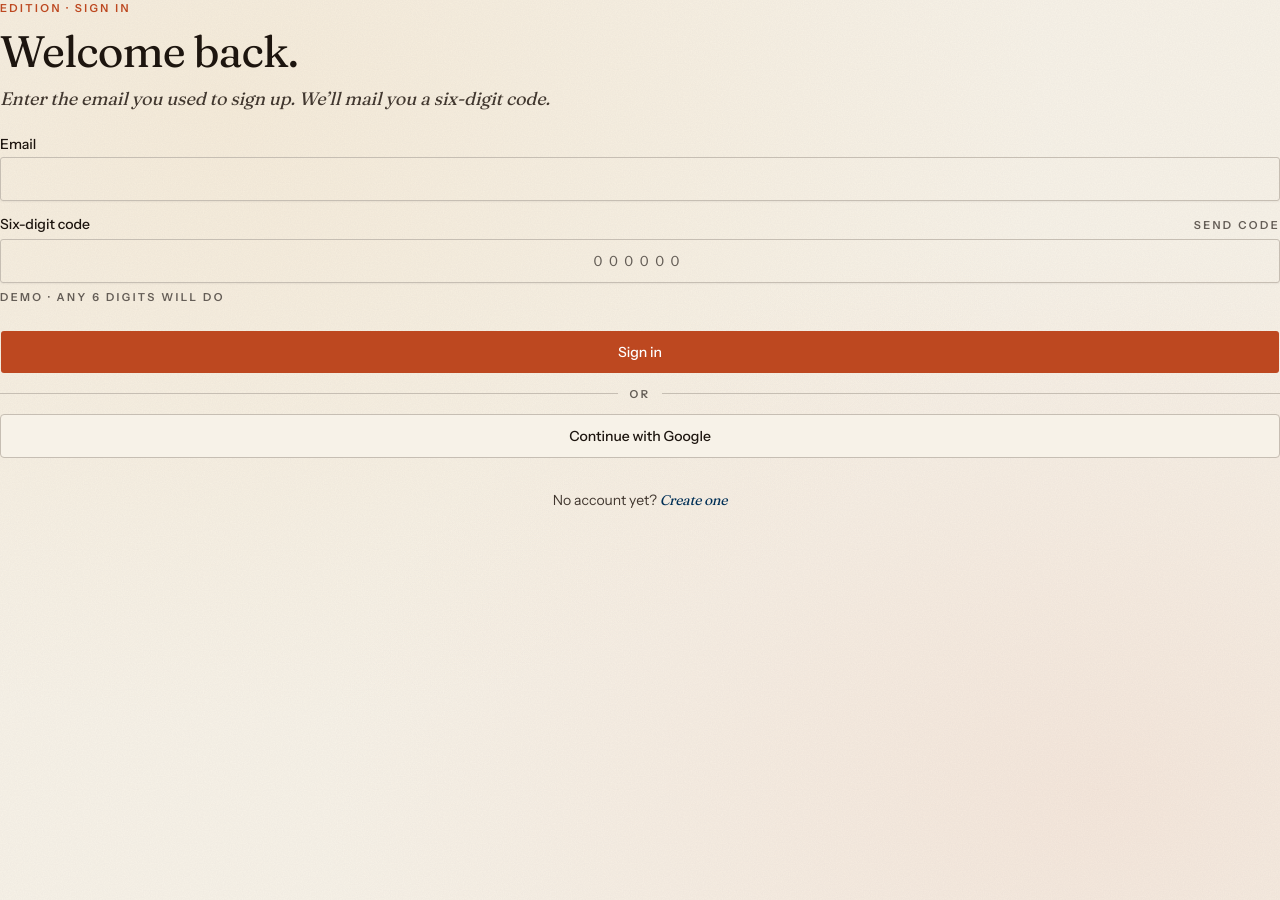
Scenario: AuthForm — OTP input › strips non-digits and caps at 6 characters
Step 1. Type "12ab345678" into the field labelled "Six-digit code" → (640, 261), box [0,239,1279,283]
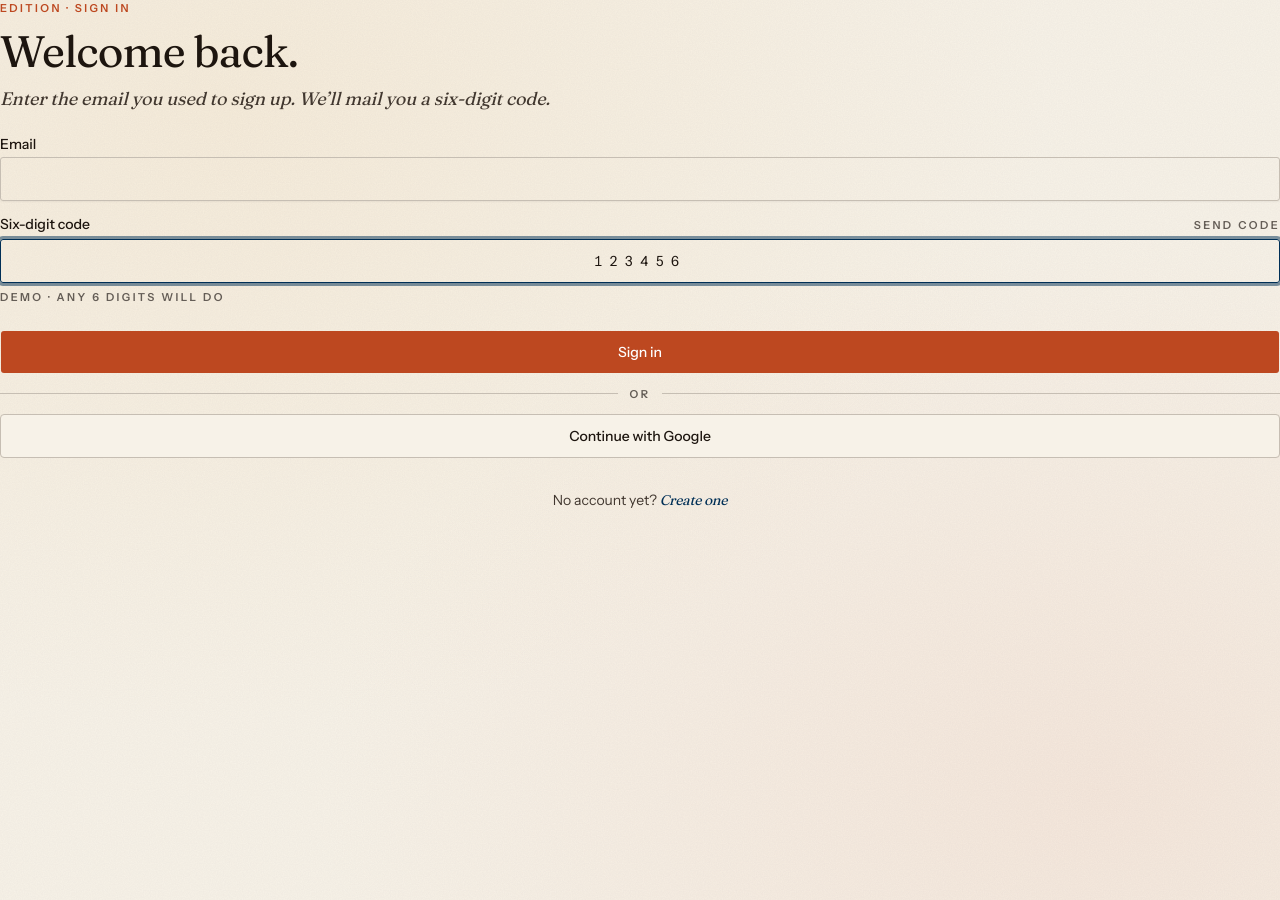
Check: the field labelled "Six-digit code" holds "123456", box [0,239,1279,283]
